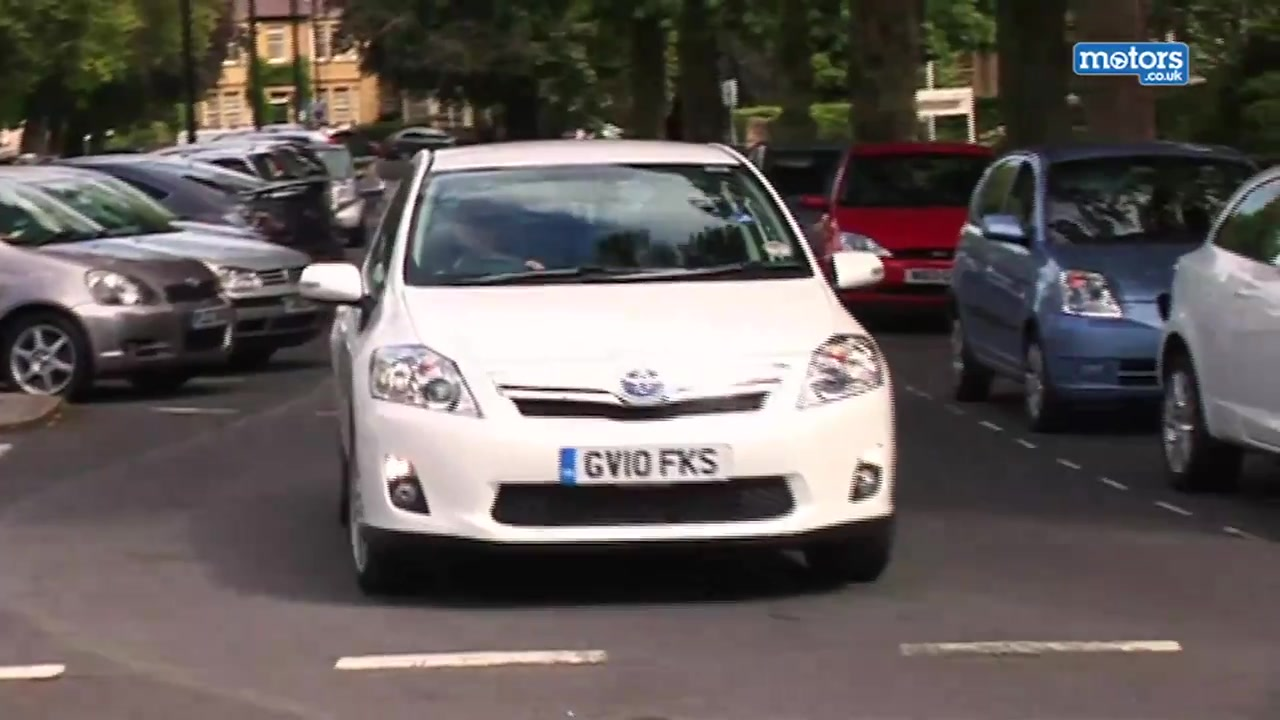car: (295, 141, 902, 594), (946, 134, 1265, 437), (16, 167, 336, 367), (1, 170, 245, 403), (1156, 165, 1280, 528), (805, 135, 1003, 312), (48, 156, 323, 253), (202, 143, 351, 253), (748, 132, 859, 264), (304, 139, 374, 251), (337, 129, 395, 206), (370, 126, 452, 159)
